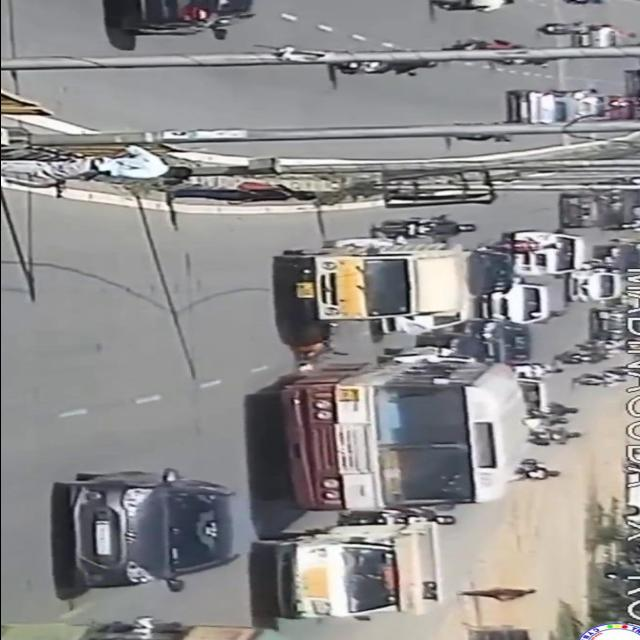accident: (249, 233, 539, 519)
non_accident: (480, 179, 640, 325), (493, 60, 640, 124)
